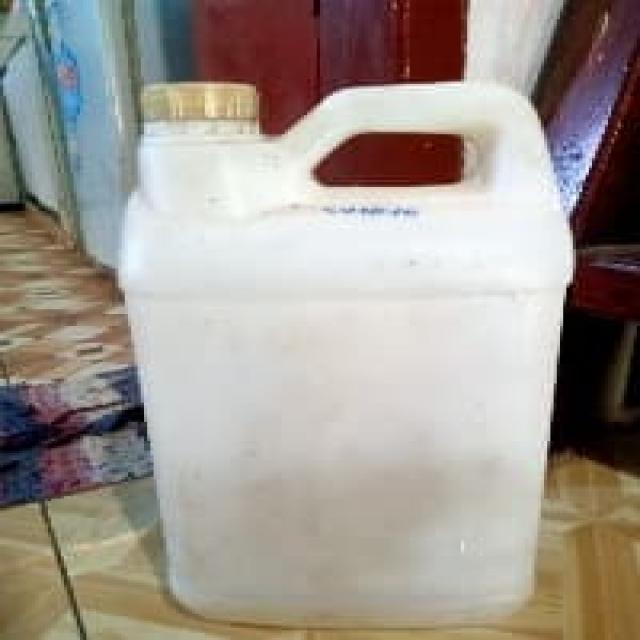HDPE Plastic: (112, 74, 580, 620)
